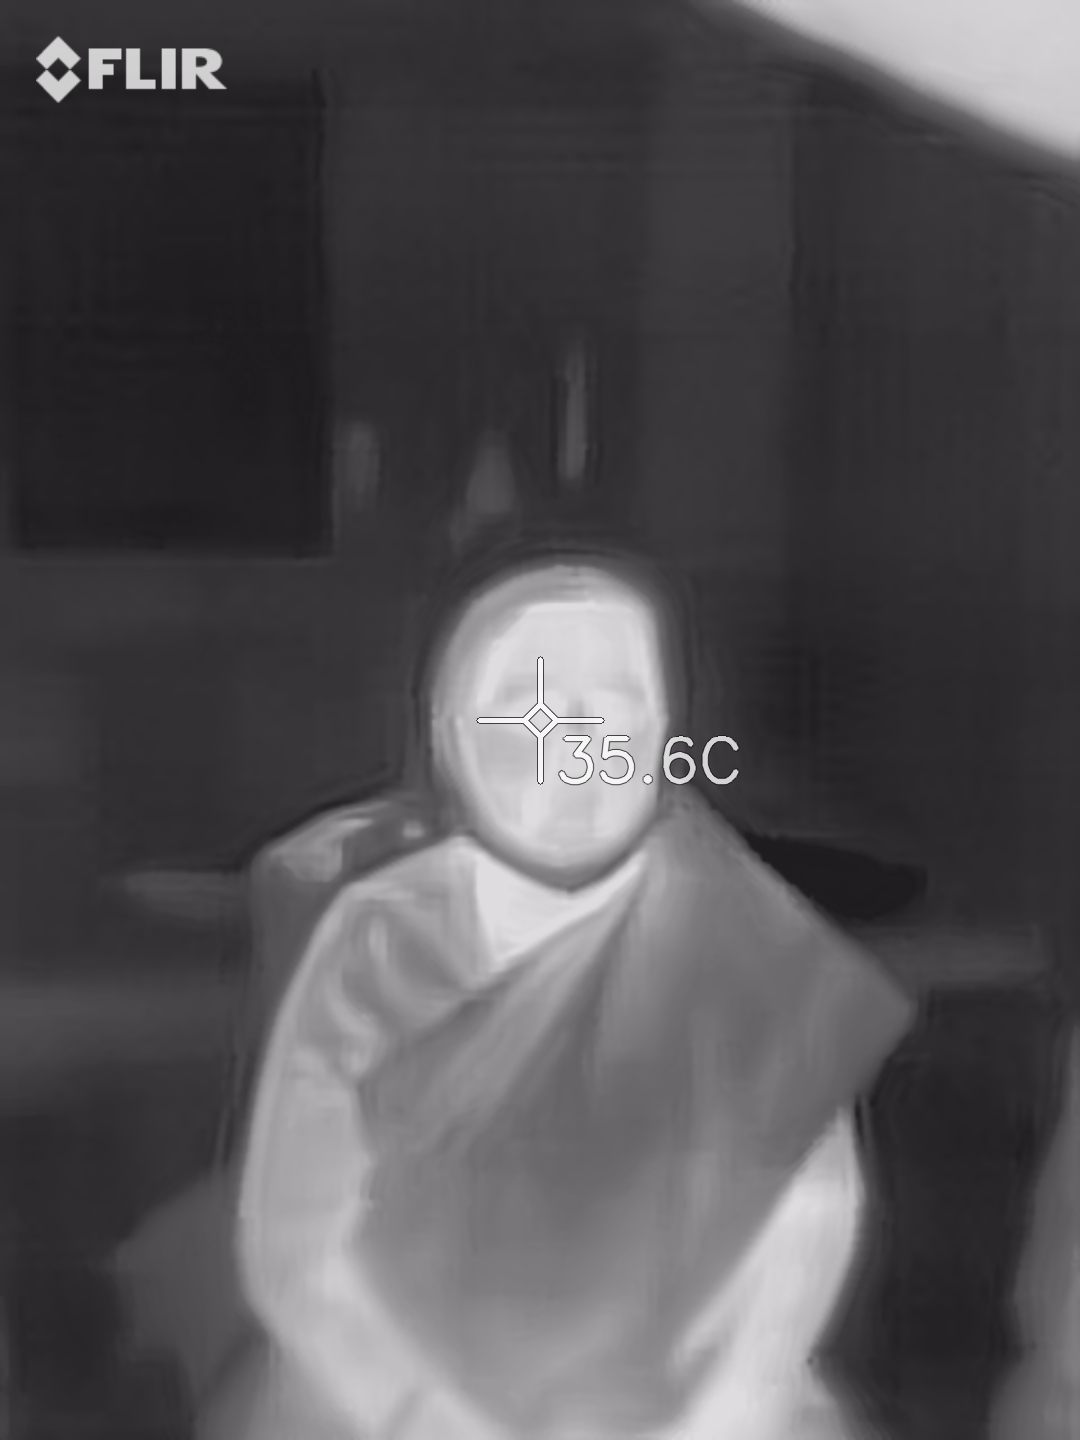head: (387, 573, 677, 882)
